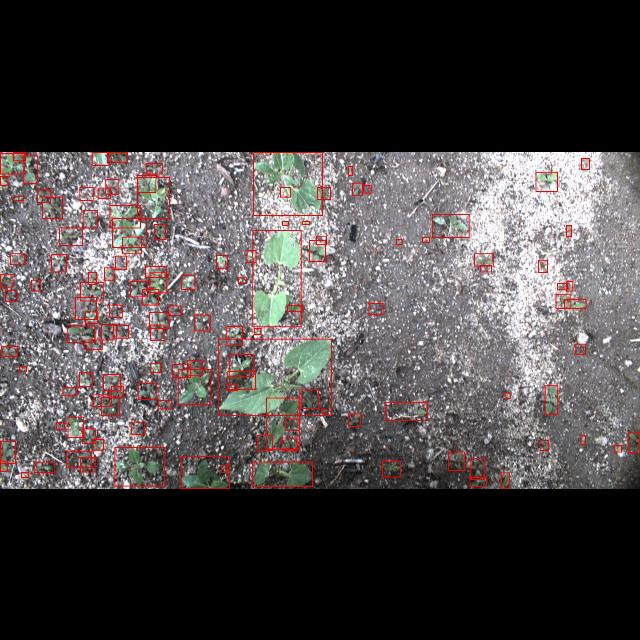crop: (218, 339, 332, 415), (253, 230, 301, 326), (254, 152, 322, 214), (266, 398, 300, 448), (252, 462, 312, 486)
weed: (115, 446, 165, 486), (180, 456, 230, 488), (137, 176, 169, 218), (178, 368, 210, 404), (112, 218, 146, 246), (432, 214, 468, 236), (385, 402, 427, 420), (110, 205, 140, 228), (229, 354, 253, 376), (227, 371, 255, 389), (0, 153, 24, 173), (66, 450, 92, 468), (67, 325, 95, 341), (536, 171, 558, 191), (42, 196, 62, 218), (76, 297, 96, 319), (59, 227, 82, 245), (80, 282, 102, 300), (544, 386, 558, 414), (23, 155, 37, 183), (136, 174, 156, 192), (122, 236, 142, 254), (100, 397, 120, 415), (301, 389, 319, 408), (150, 272, 167, 292), (1, 441, 16, 463), (309, 240, 325, 260), (149, 312, 169, 328), (68, 417, 84, 437), (448, 452, 464, 471), (382, 461, 400, 477), (227, 326, 243, 344), (138, 383, 156, 399), (130, 280, 148, 296), (470, 458, 484, 478), (82, 210, 98, 227), (194, 314, 210, 330), (104, 374, 120, 390), (80, 456, 96, 472), (172, 363, 190, 377), (52, 254, 66, 272), (628, 432, 640, 452), (474, 253, 494, 265), (188, 360, 202, 376), (150, 324, 164, 340), (181, 274, 195, 290), (142, 290, 158, 304), (102, 324, 116, 340), (82, 428, 96, 444), (564, 298, 586, 308), (93, 394, 111, 406), (146, 266, 166, 276), (35, 462, 55, 472), (107, 151, 127, 161), (556, 294, 570, 308), (258, 436, 272, 450), (114, 324, 128, 338), (79, 372, 93, 386), (154, 223, 166, 239), (92, 152, 108, 164), (106, 178, 118, 194), (38, 188, 51, 202), (469, 476, 486, 486), (85, 339, 102, 349), (369, 302, 383, 314), (282, 438, 296, 450), (1, 274, 13, 288), (115, 255, 127, 269), (146, 163, 162, 173), (2, 346, 18, 356), (216, 255, 228, 268), (80, 187, 92, 200), (285, 418, 299, 429), (318, 186, 330, 198), (348, 414, 360, 426), (110, 304, 122, 316), (132, 422, 144, 434), (10, 253, 24, 263), (63, 386, 77, 396), (110, 386, 124, 396), (92, 438, 104, 449), (501, 472, 509, 488), (158, 399, 172, 408), (538, 259, 548, 271), (352, 182, 362, 194), (168, 305, 180, 315), (104, 267, 114, 279), (85, 312, 97, 322), (98, 187, 110, 197), (5, 290, 17, 300), (12, 152, 26, 160), (247, 250, 256, 262), (575, 344, 585, 354), (280, 186, 290, 196), (151, 362, 161, 372), (88, 272, 96, 284), (288, 305, 302, 311), (581, 158, 589, 168), (540, 440, 548, 450), (316, 236, 326, 244), (32, 280, 40, 290), (566, 224, 572, 236), (1, 461, 8, 471), (481, 265, 492, 271), (614, 444, 622, 452), (363, 184, 371, 192), (56, 422, 64, 430), (0, 176, 8, 184), (566, 281, 572, 291), (557, 283, 567, 289), (580, 434, 586, 444), (14, 194, 24, 200), (227, 384, 237, 390), (422, 236, 430, 242), (221, 464, 227, 472), (253, 328, 260, 334), (19, 366, 26, 372), (504, 392, 510, 398), (396, 238, 402, 244), (348, 166, 352, 174), (238, 278, 246, 282), (302, 220, 310, 223), (282, 220, 288, 224), (22, 472, 28, 476), (322, 409, 326, 413)
